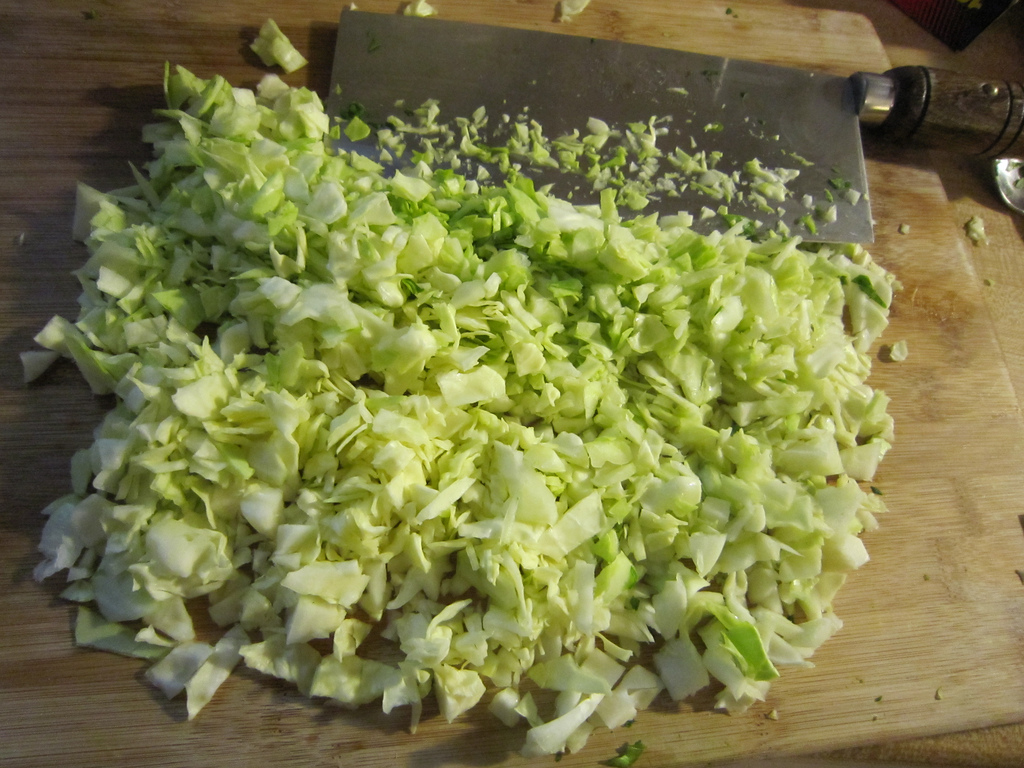chopped lettuce: (67, 103, 885, 737)
